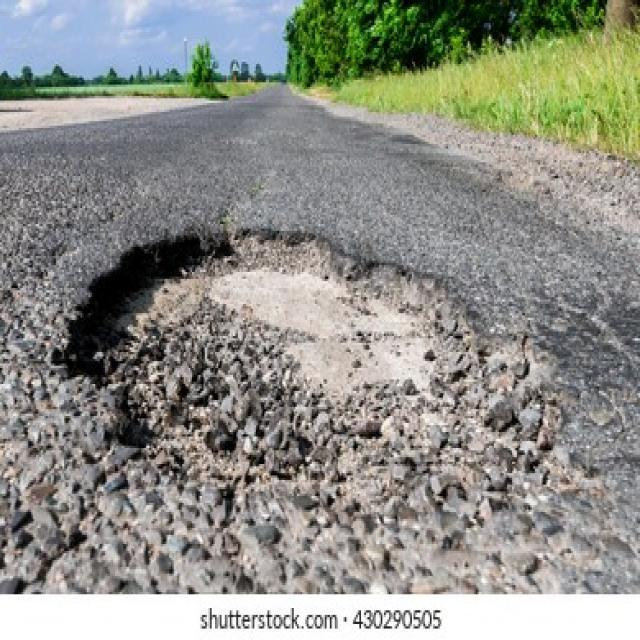Pothole: (59, 220, 584, 506)
